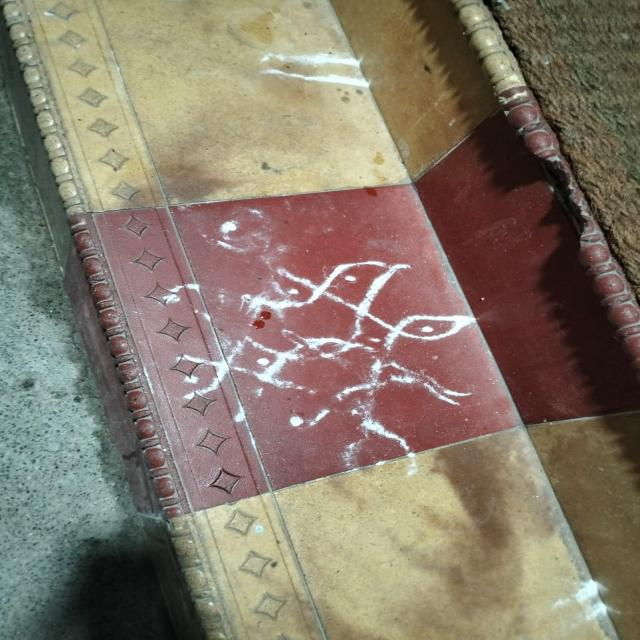rangoli: (88, 160, 520, 506)
